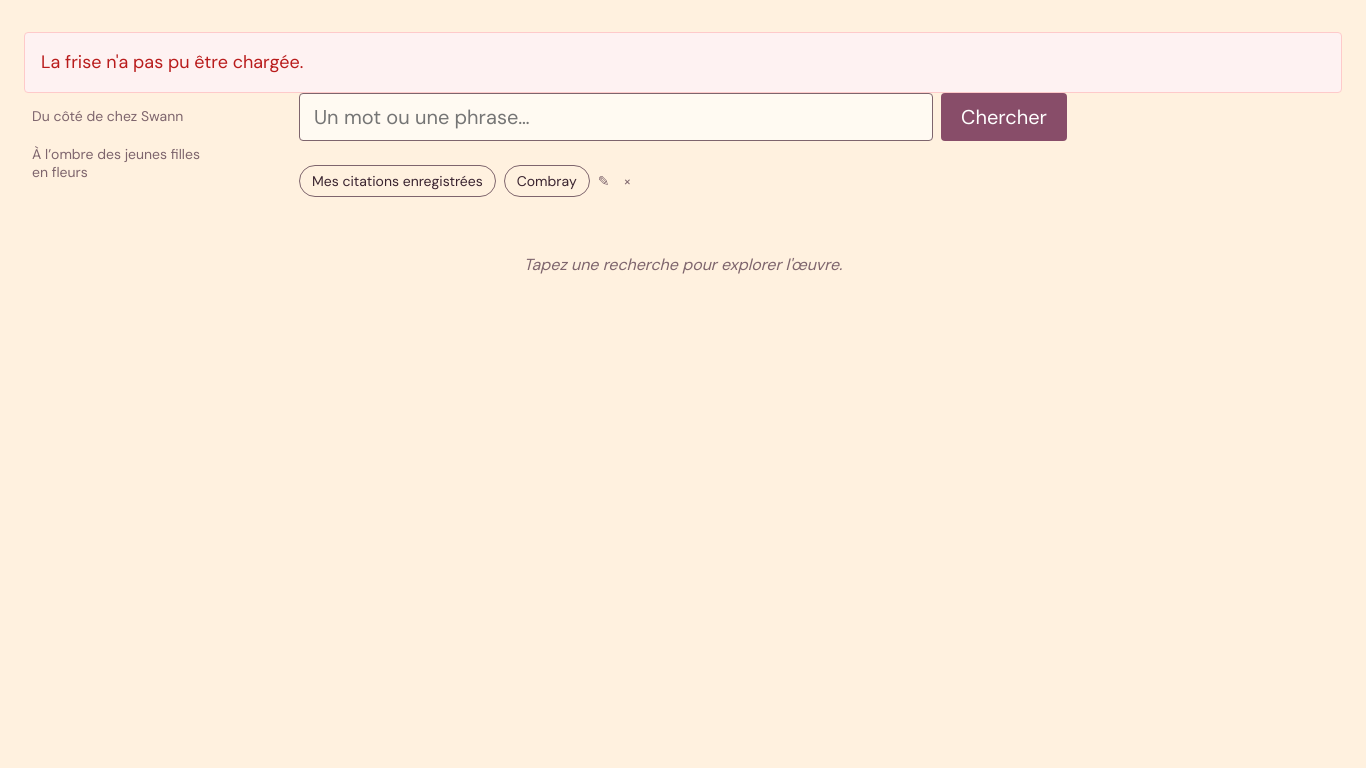
Test: connected › opens a saved quote from its list even when the timeline request fails
Click the button "Mes citations enregistrées" at (397, 181), box [299,165,496,197]
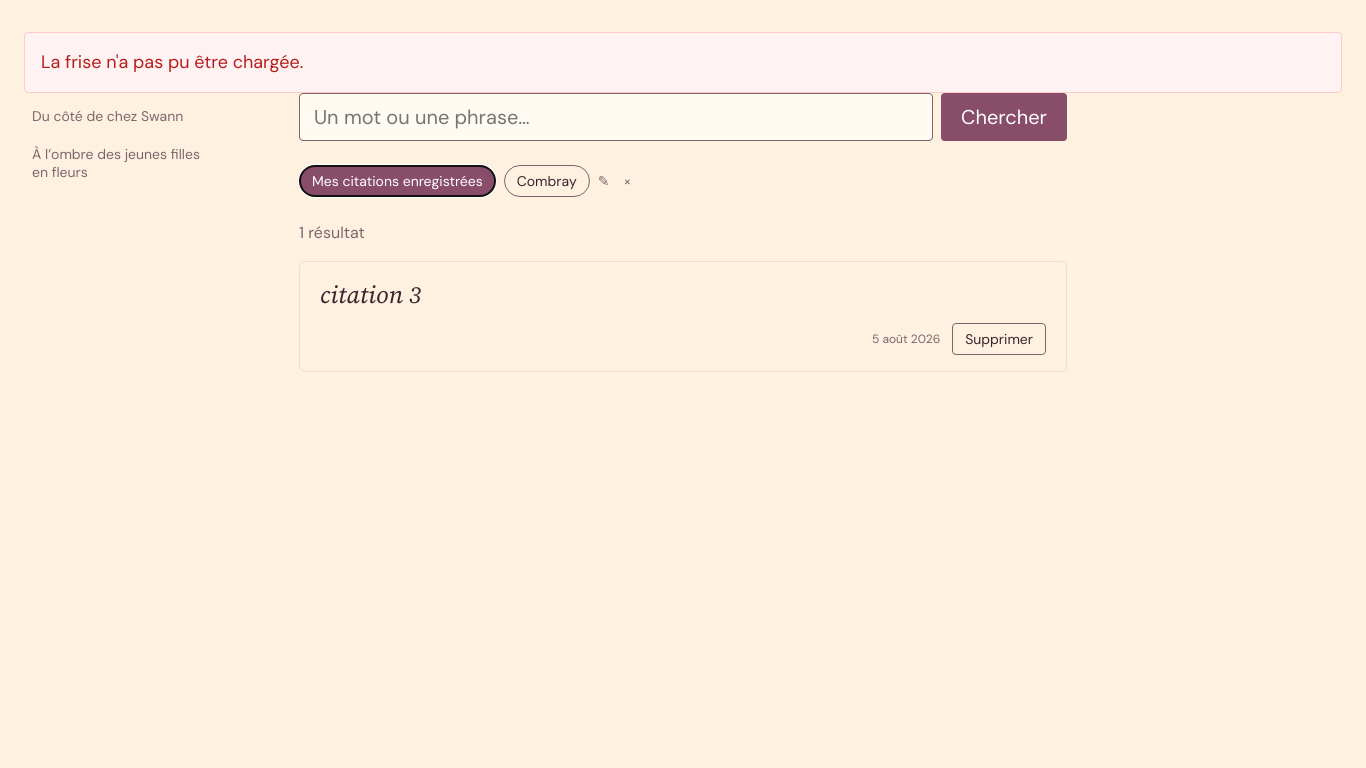
Click the button "citation 3" at (371, 294), box [320,278,1046,311]
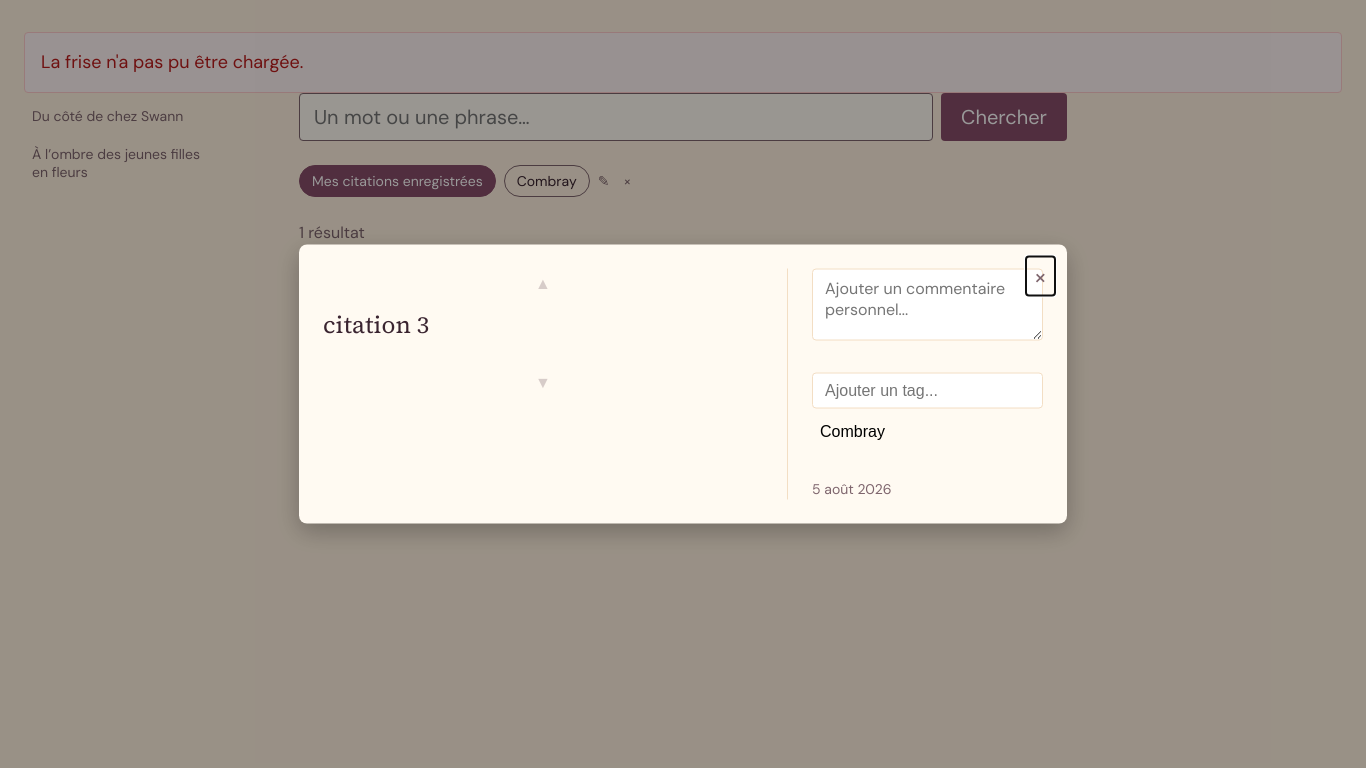
Expected: the dialog "citation" is shown, [299,244,1067,524]
Expected: the text "citation 3" is shown, [323,308,429,340]
